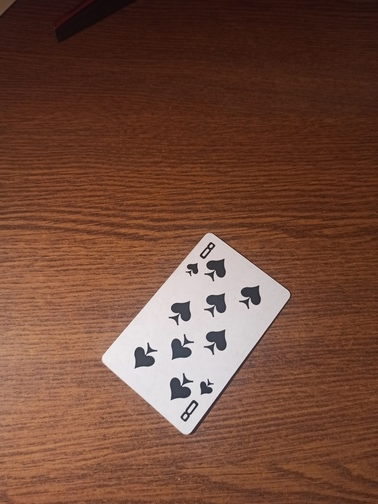eightspades: (98, 231, 292, 434)
